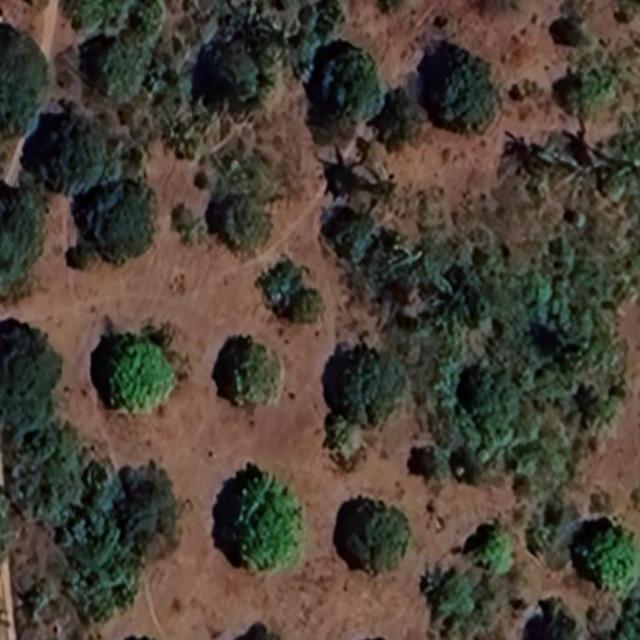Tree: (18, 426, 138, 624), (220, 464, 304, 576), (20, 106, 103, 200), (424, 40, 501, 138), (0, 326, 61, 448), (98, 1, 168, 107), (121, 453, 182, 564), (331, 344, 408, 430), (313, 42, 384, 134), (0, 21, 49, 152), (80, 182, 156, 264), (338, 494, 412, 576), (100, 341, 176, 416), (0, 183, 45, 300), (468, 364, 522, 461), (202, 32, 266, 112), (578, 527, 640, 596), (212, 191, 278, 254), (225, 339, 285, 406), (568, 64, 614, 127), (332, 207, 376, 259), (433, 574, 477, 621), (476, 525, 516, 576), (559, 9, 598, 56), (66, 0, 114, 38), (328, 418, 366, 463), (296, 289, 329, 327), (425, 446, 450, 488), (614, 606, 640, 640)
